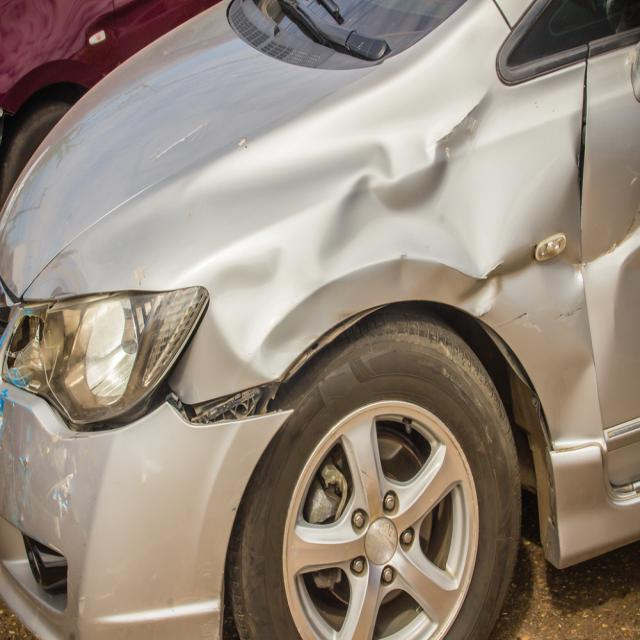Cabossage: (202, 87, 507, 393), (578, 216, 640, 384)
Dechirure: (170, 393, 300, 429)
Phare abime: (2, 288, 53, 404)
Rayure: (0, 402, 81, 561), (512, 301, 592, 363)
